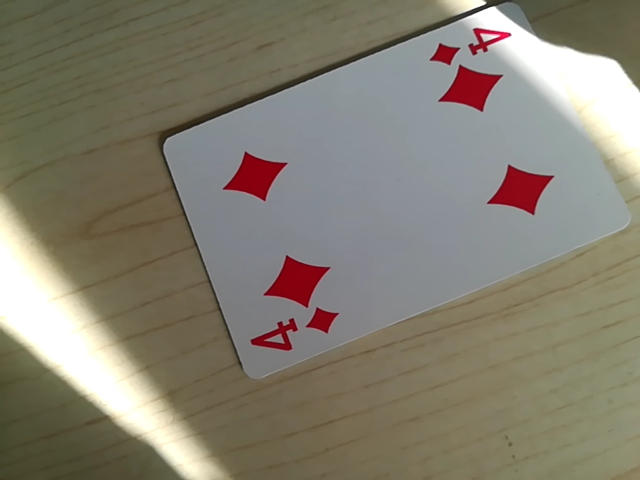fk 4: (247, 305, 341, 359), (430, 14, 515, 66)
